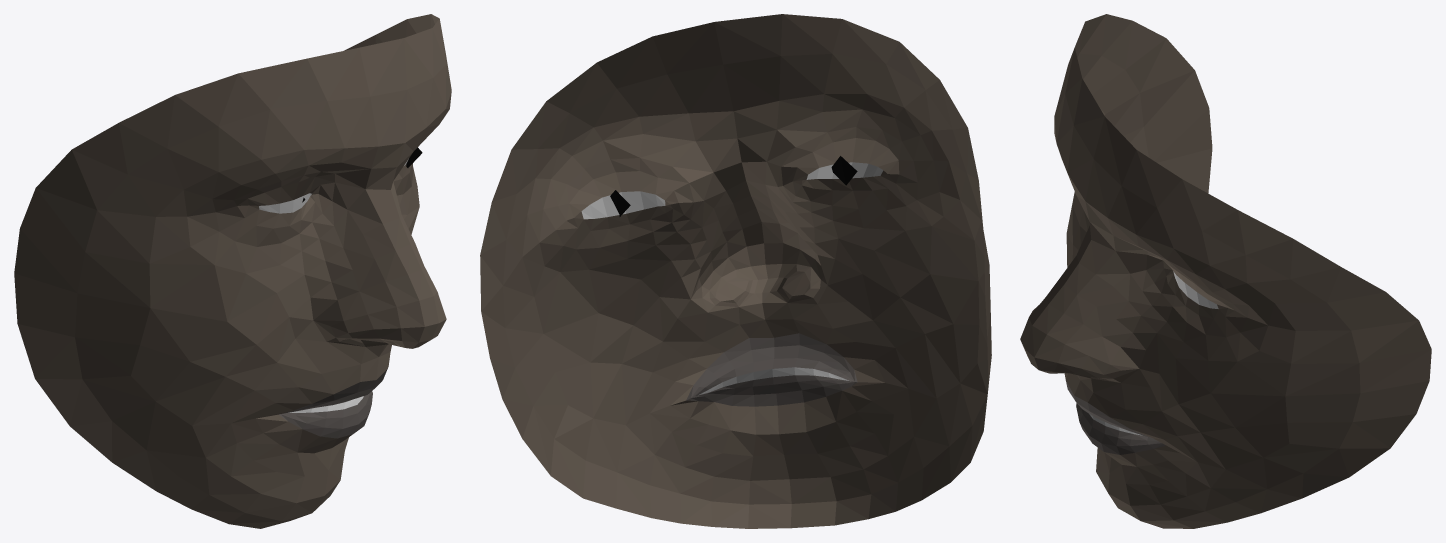
The model's file is frame_00125.obj.
The picture shows the model from 3 angles, left to right: view 1: azimuth 30°, elevation 25°; view 2: azimuth 150°, elevation 25°; view 3: azimuth 270°, elevation 25°; orthographic projection. The views are drawn at different scales.
Visible parts, largest first — view 1: face_model_with_iris; view 2: face_model_with_iris; view 3: face_model_with_iris.
Part boxes in pixels (bbox=[...]): face_model_with_iris: bbox=[14, 14, 451, 528]; face_model_with_iris: bbox=[480, 14, 991, 528]; face_model_with_iris: bbox=[1020, 14, 1431, 528].
Size of the model in its own units: 0.5038 by 0.5426 by 0.4394.
